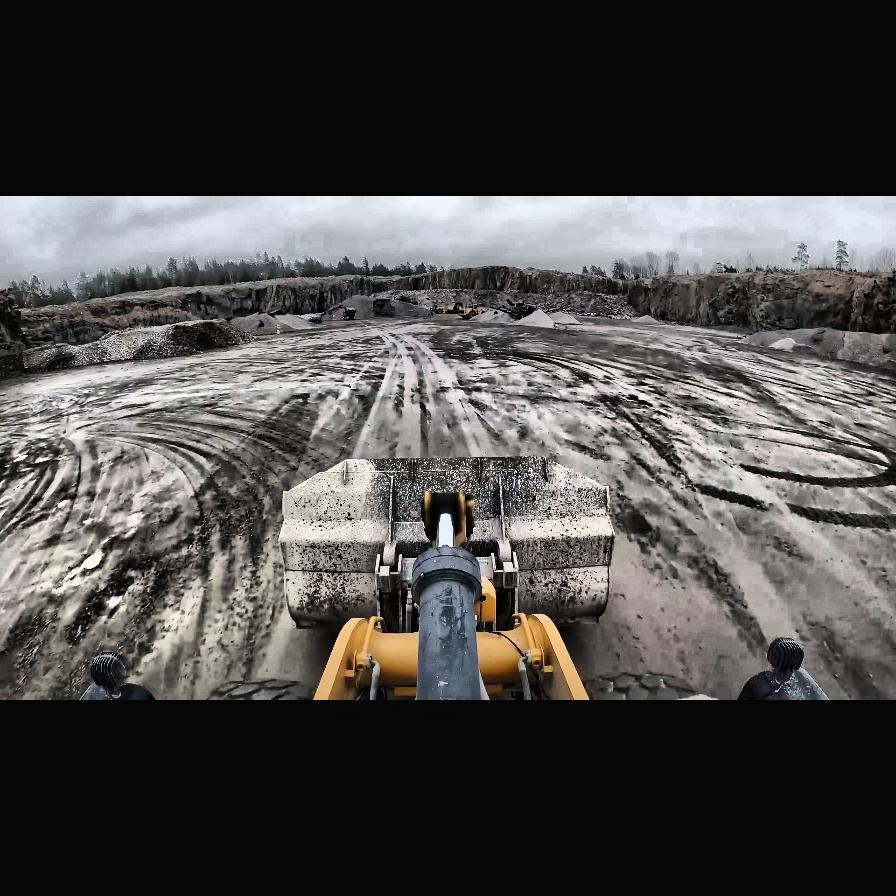anchor: (423, 490, 473, 548)
pile of gravel: (17, 319, 255, 373), (738, 326, 895, 370), (412, 286, 574, 323), (21, 344, 81, 374), (740, 330, 800, 348), (631, 314, 659, 324)
